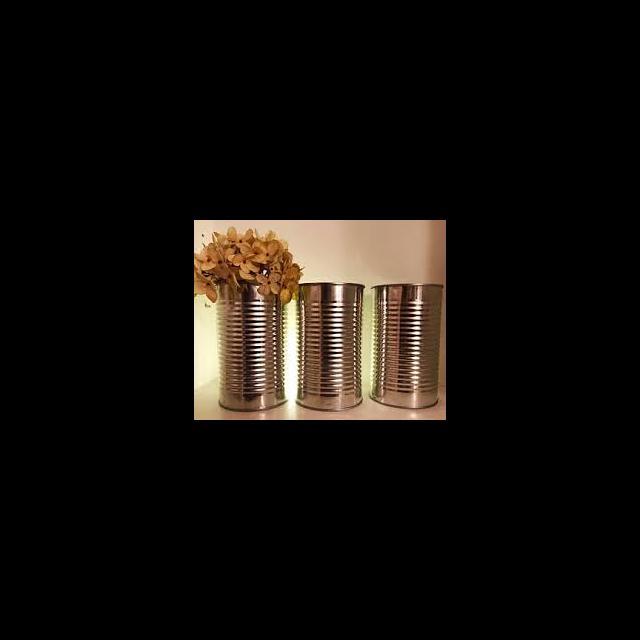metal: (215, 276, 287, 412), (368, 283, 443, 410), (295, 280, 362, 411)
